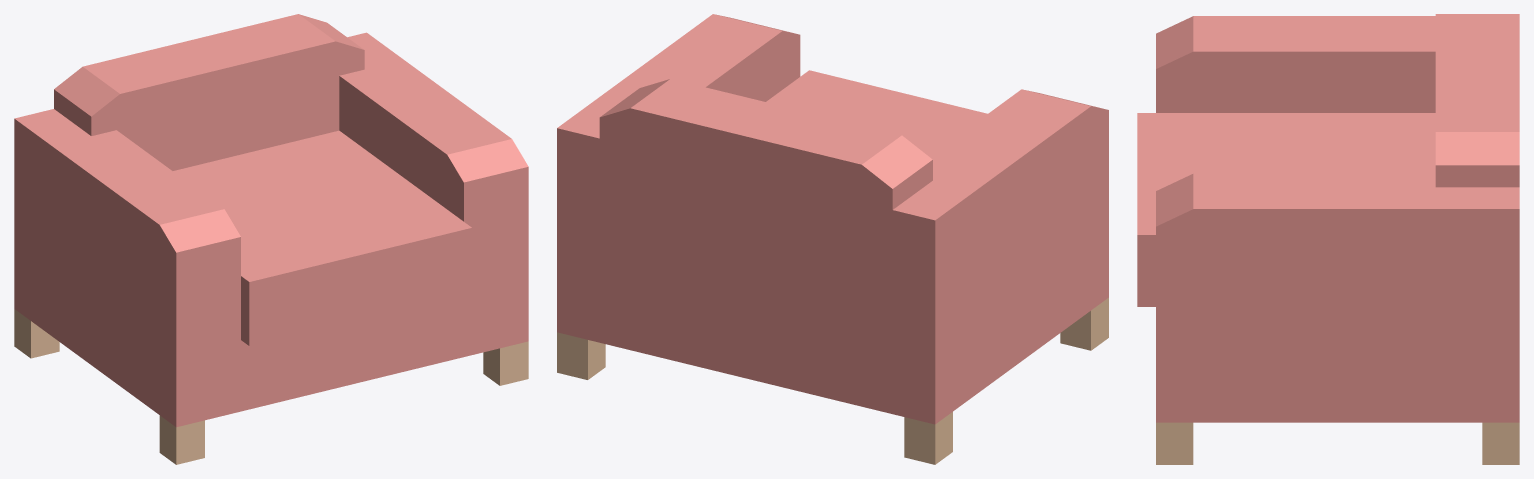
Rendered from loungeChair_low_back.glb.
The picture shows the model from 3 angles, left to right: view 1: azimuth 30°, elevation 25°; view 2: azimuth 150°, elevation 25°; view 3: azimuth 270°, elevation 25°; orthographic projection. The views are drawn at different scales.
Parts seen in each view (by area): view 1: loungeChair(Clone); view 2: loungeChair(Clone); view 3: loungeChair(Clone).
Boxes of the visible parts, x1=… form: loungeChair(Clone): x1=14, y1=14, x2=528, y2=464; loungeChair(Clone): x1=557, y1=14, x2=1108, y2=464; loungeChair(Clone): x1=1137, y1=14, x2=1519, y2=464.
Size of the model in its own units: 0.49 by 0.3496 by 0.41.
